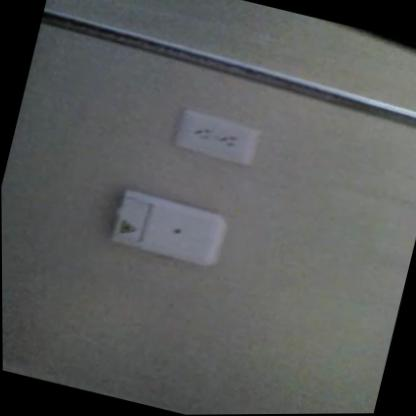OUTLET: (173, 109, 260, 168)
